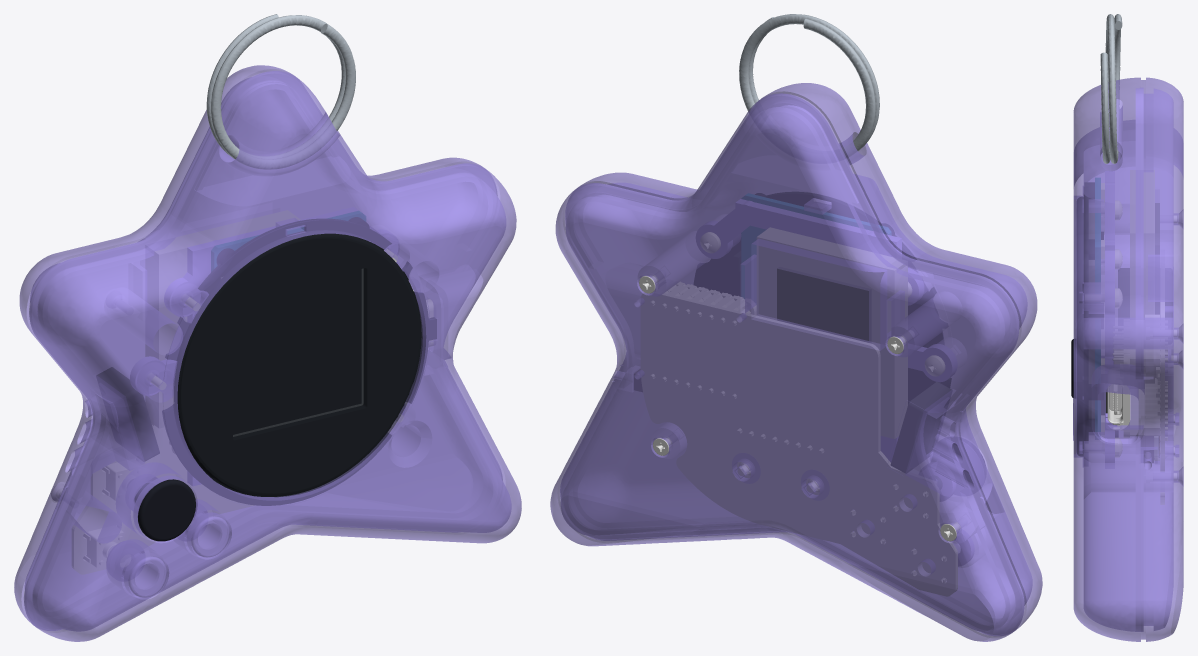
The model's file is assembly.glb.
3 views of the same model, side by side, from view 1: azimuth 30°, elevation 25°; view 2: azimuth 150°, elevation 25°; view 3: azimuth 270°, elevation 25° (orthographic). The views are drawn at different scales.
Visible parts, largest first — view 1: o1.30, o1.1, o1.34.1, o1.8, o1.13.3.1, o1.33.1, o1.12.1, o1.17.77, o1.25, o1.9, o1.32.1, o1.10 (+3 smaller); view 2: o1.1, o1.30, o1.17.77, o1.12.1, o1.25, o1.22.1, o1.33.1, o1.8, o1.32.1, o1.13.1; view 3: o1.30, o1.1 (×2), o1.8, o1.33.1, o1.12.1, o1.25, o1.13.1, o1.17.77, o1.17.52, o1.32.1, o1.13.2.1, o1.17.30 (+6 smaller).
Part boxes in pixels (x1=…): o1.30: x1=24, y1=71, x2=521, y2=641; o1.1: x1=14, y1=65, x2=502, y2=630; o1.34.1: x1=179, y1=236, x2=422, y2=497; o1.8: x1=162, y1=217, x2=436, y2=505; o1.13.3.1: x1=233, y1=269, x2=361, y2=434; o1.33.1: x1=206, y1=14, x2=355, y2=169; o1.12.1: x1=145, y1=210, x2=299, y2=427; o1.17.77: x1=72, y1=424, x2=253, y2=574; o1.25: x1=130, y1=207, x2=399, y2=485; o1.9: x1=135, y1=479, x2=195, y2=541; o1.32.1: x1=97, y1=367, x2=159, y2=460; o1.10: x1=122, y1=553, x2=166, y2=597; o1.1: x1=550, y1=93, x2=1024, y2=641; o1.30: x1=560, y1=83, x2=1042, y2=635; o1.17.77: x1=641, y1=293, x2=957, y2=596; o1.12.1: x1=757, y1=227, x2=907, y2=438; o1.25: x1=696, y1=199, x2=957, y2=461; o1.22.1: x1=777, y1=267, x2=871, y2=342; o1.33.1: x1=739, y1=14, x2=879, y2=158; o1.8: x1=694, y1=192, x2=951, y2=403; o1.32.1: x1=891, y1=382, x2=950, y2=472; o1.13.1: x1=741, y1=193, x2=891, y2=298; o1.30: x1=1073, y1=77, x2=1172, y2=641; o1.1 (×2): x1=1121, y1=77, x2=1183, y2=641; o1.8: x1=1077, y1=182, x2=1103, y2=456; o1.33.1: x1=1100, y1=14, x2=1122, y2=163; o1.12.1: x1=1130, y1=170, x2=1154, y2=383; o1.25: x1=1105, y1=171, x2=1114, y2=462; o1.13.1: x1=1095, y1=178, x2=1100, y2=431; o1.17.77: x1=1160, y1=302, x2=1164, y2=504; o1.17.52: x1=1145, y1=384, x2=1159, y2=435; o1.32.1: x1=1118, y1=268, x2=1172, y2=317; o1.13.2.1: x1=1089, y1=213, x2=1094, y2=418; o1.17.30: x1=1113, y1=405, x2=1144, y2=435.
Size of the model in its own units: 0.1015 by 0.1163 by 0.0225.
